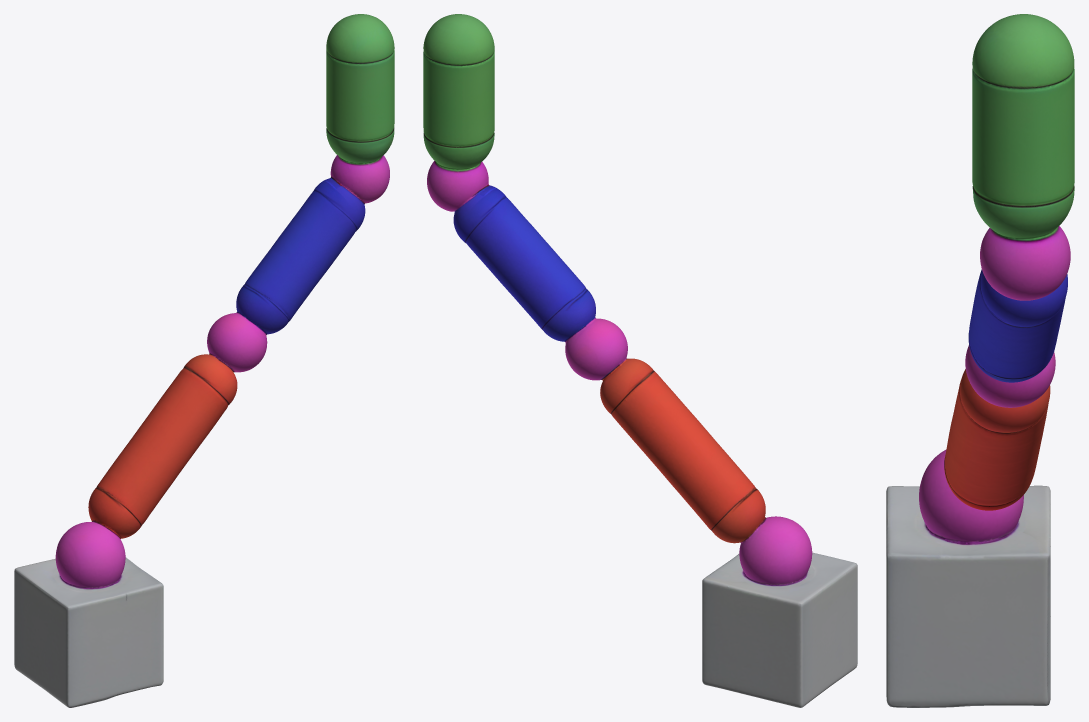
3 views of the same model, side by side, from view 1: azimuth 30°, elevation 25°; view 2: azimuth 150°, elevation 25°; view 3: azimuth 270°, elevation 25° (orthographic). The views are drawn at different scales.
Parts seen in each view (by area): view 1: tripo_node_fa94a6da-137c-4054-a6f5-6fab74ffd7dc; view 2: tripo_node_fa94a6da-137c-4054-a6f5-6fab74ffd7dc; view 3: tripo_node_fa94a6da-137c-4054-a6f5-6fab74ffd7dc.
Boxes of the visible parts, x1,y1,x2,y2 form: tripo_node_fa94a6da-137c-4054-a6f5-6fab74ffd7dc: (14, 14, 394, 707); tripo_node_fa94a6da-137c-4054-a6f5-6fab74ffd7dc: (423, 14, 857, 707); tripo_node_fa94a6da-137c-4054-a6f5-6fab74ffd7dc: (886, 14, 1074, 707).
Bounding box in the file's own units: 0.6642 × 1 × 0.1961.
1 material, 1 textured.
